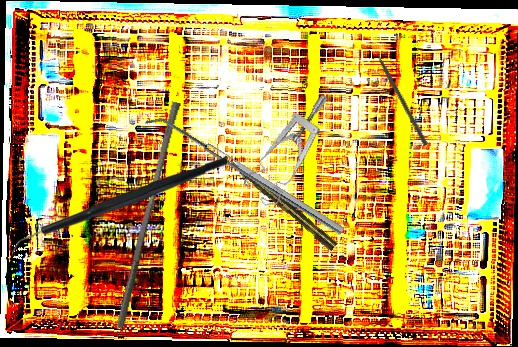Chopper: (10, 156, 229, 259)
Handpiece: (224, 153, 339, 253)
Pusher: (115, 99, 182, 332), (369, 41, 430, 147)
Spatula Surgical: (144, 108, 345, 243)
Speculum: (224, 91, 362, 214)
